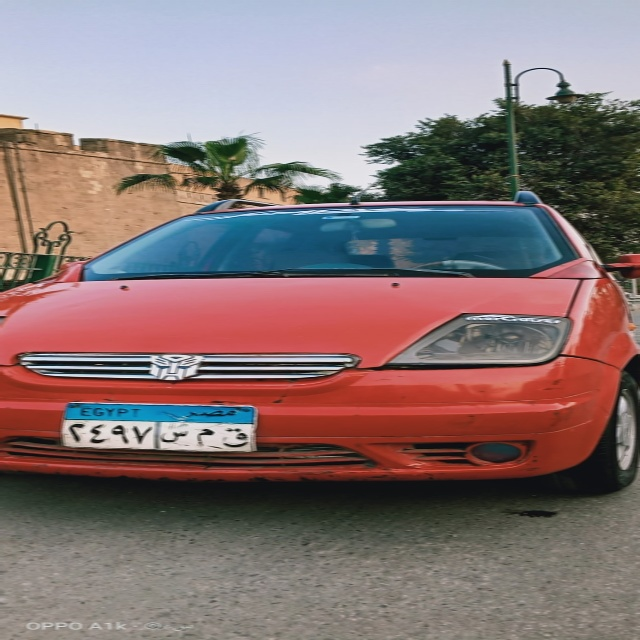License Plate: (57, 400, 260, 453)
